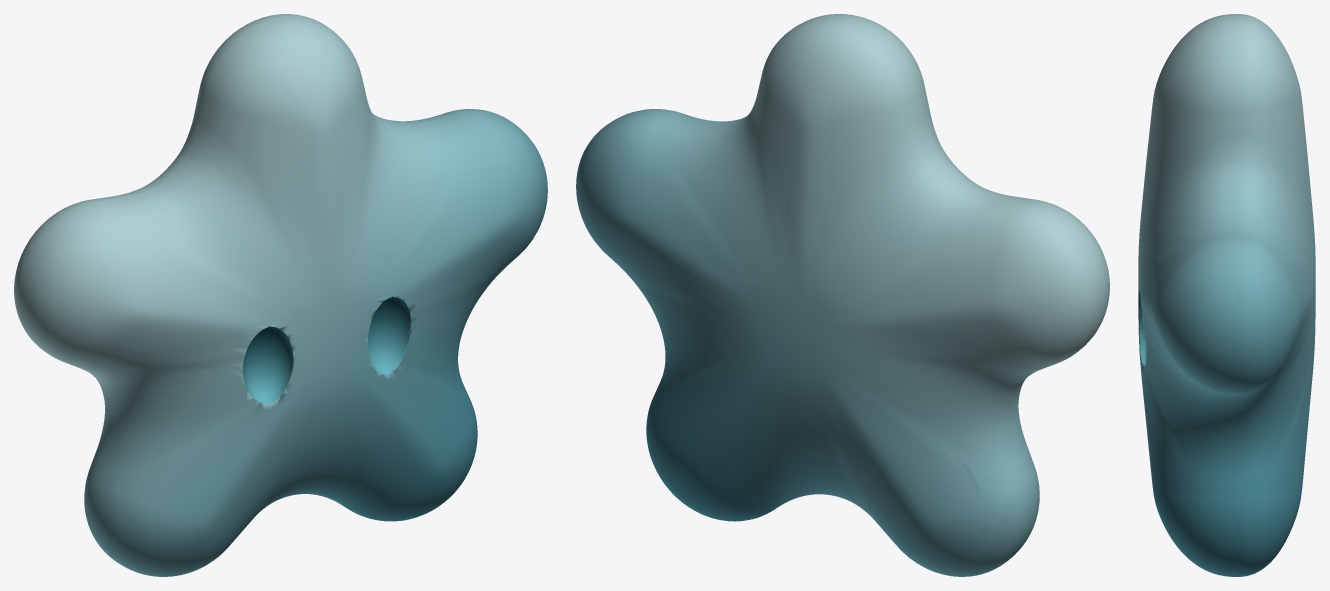
File: mapper.glb
3 views of the same model, side by side, from view 1: azimuth 30°, elevation 25°; view 2: azimuth 150°, elevation 25°; view 3: azimuth 270°, elevation 25° (orthographic). The views are drawn at different scales.
Parts seen in each view (by area): view 1: Mapper; view 2: Mapper; view 3: Mapper.
Part boxes in pixels (x1,y1,x2,y2): Mapper: (14,14,547,576); Mapper: (576,14,1109,576); Mapper: (1138,14,1315,576).
Bounding box in the file's own units: 2.3 × 2.22 × 0.7197.
